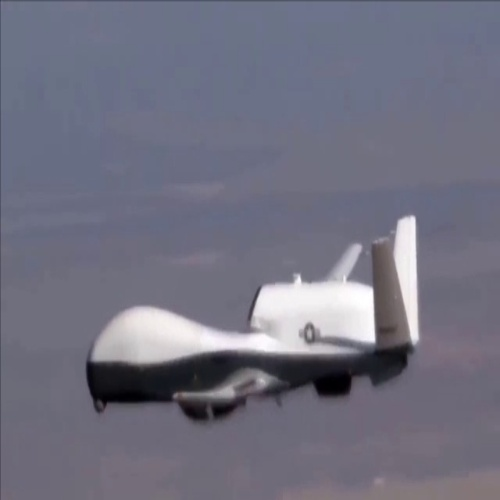uav: (81, 217, 422, 423)
